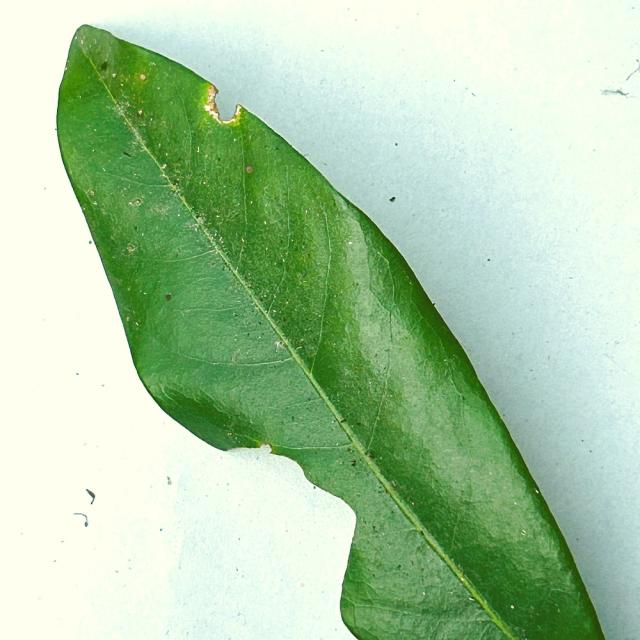Lychee: (55, 25, 606, 639), (202, 452, 353, 628), (205, 89, 246, 124)
